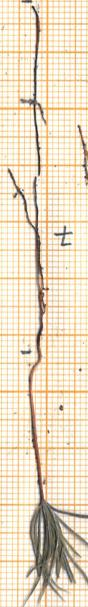flower: (16, 500, 88, 607)
root: (5, 4, 54, 352)
stem: (25, 352, 49, 496)
